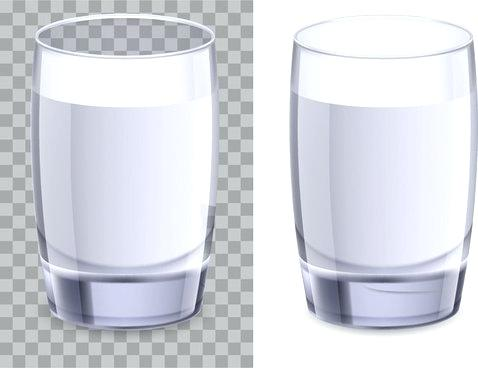glass of milk: (59, 56, 183, 311), (315, 52, 456, 265)
